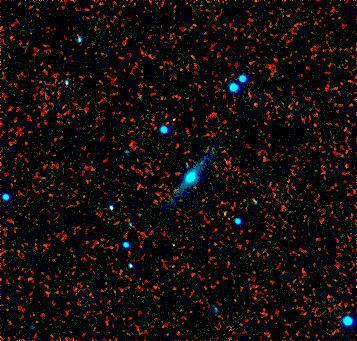star: (174, 145, 204, 175)
